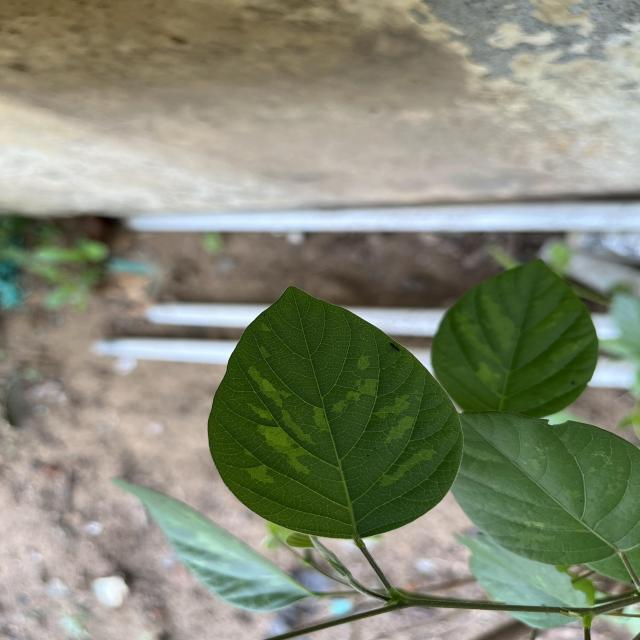Desmodium gangeticum: (202, 280, 470, 544)
